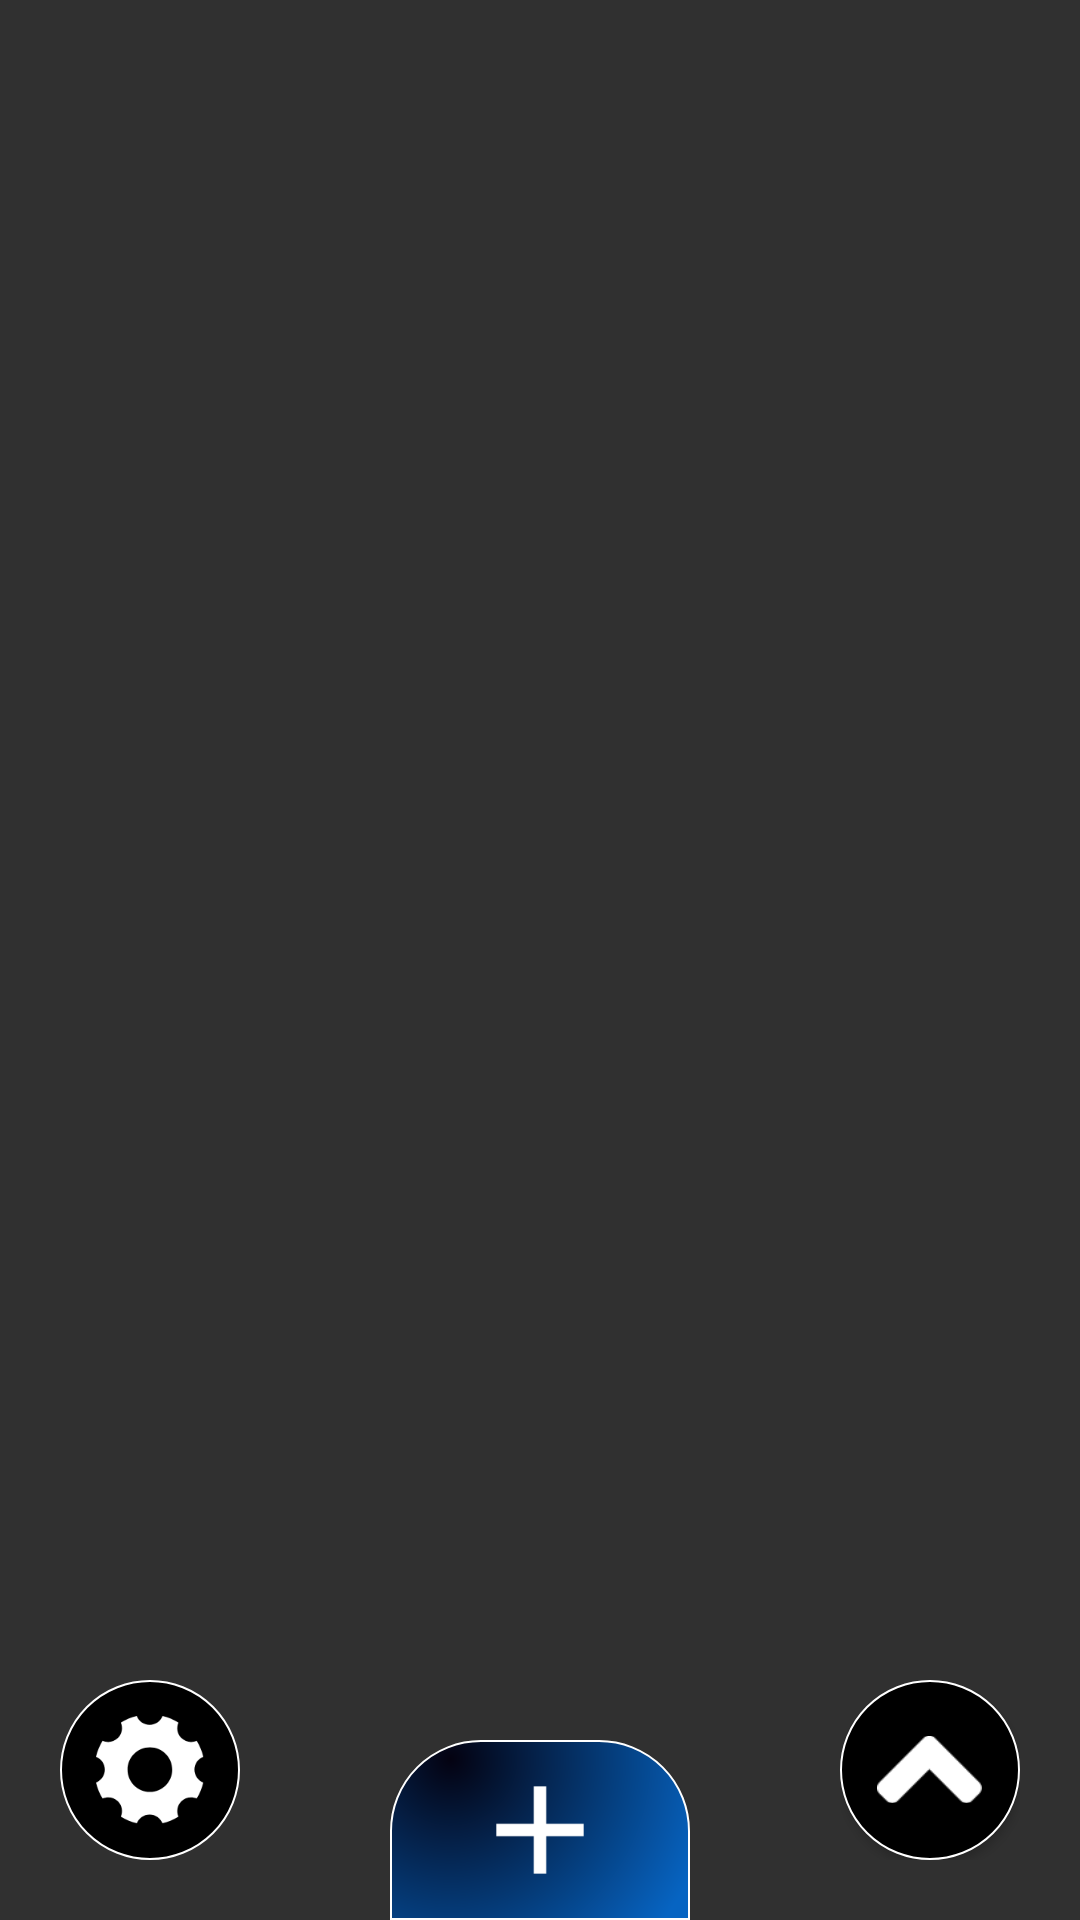

Where to tap for icons on this 1080 x 1920 app screen, as (x=x, y=y):
settings: (x=150, y=1770)
